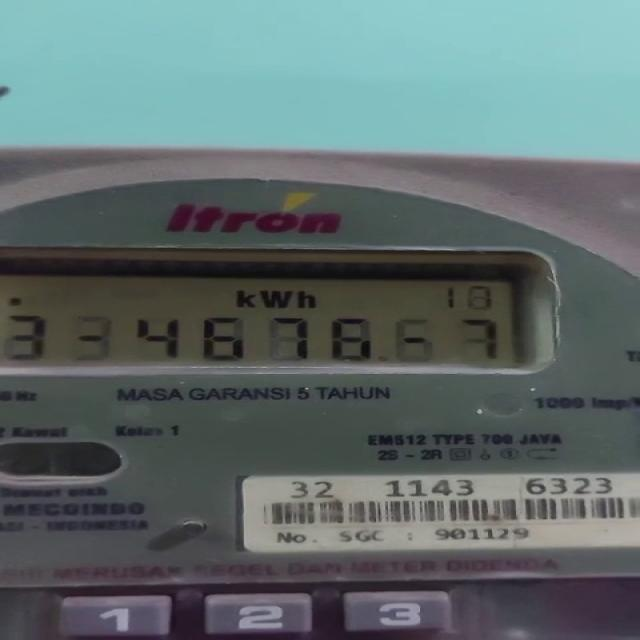LCD: (0, 251, 553, 368)
